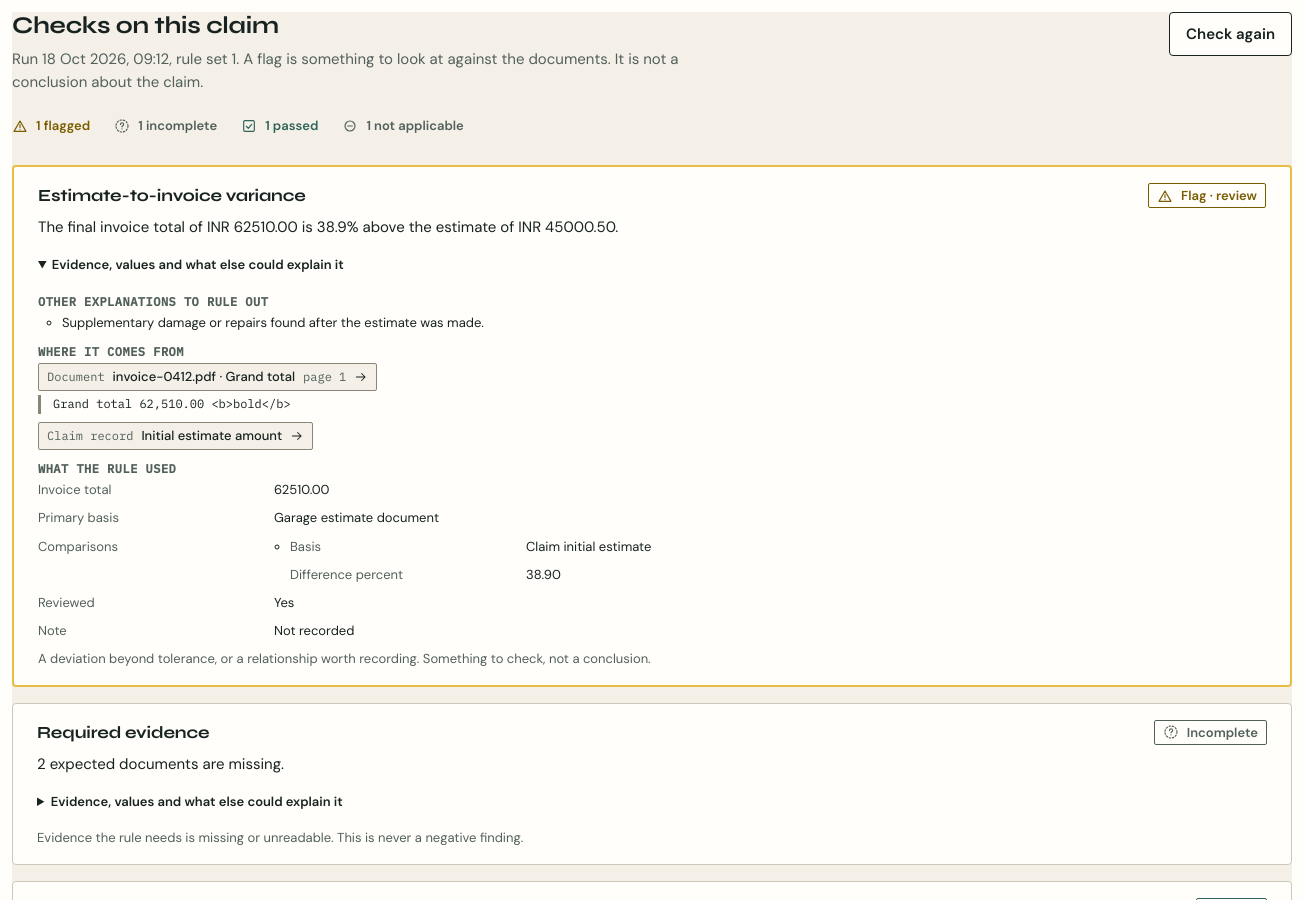
Test: a stored run › says nothing changed when the server returns the stored run, and that a new run was stored otherwise
The image size is (1304, 900).
Click the button "Check again" at (1231,34), box [1169, 12, 1292, 56]
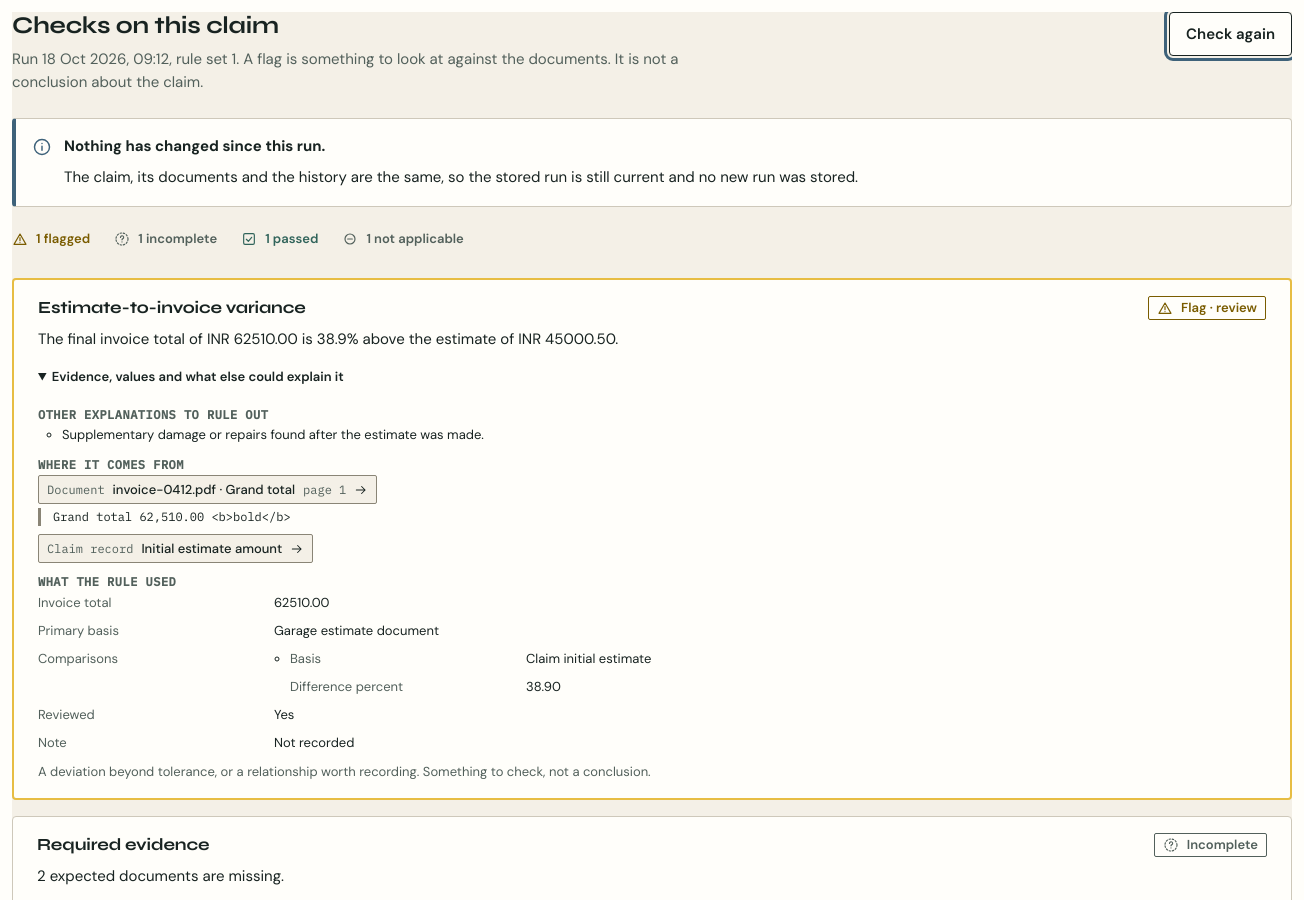
Check: the text "Nothing has changed since this run." is shown, box [64, 136, 325, 156]
Click the button "Check again" at (1231,34), box [1169, 12, 1292, 56]
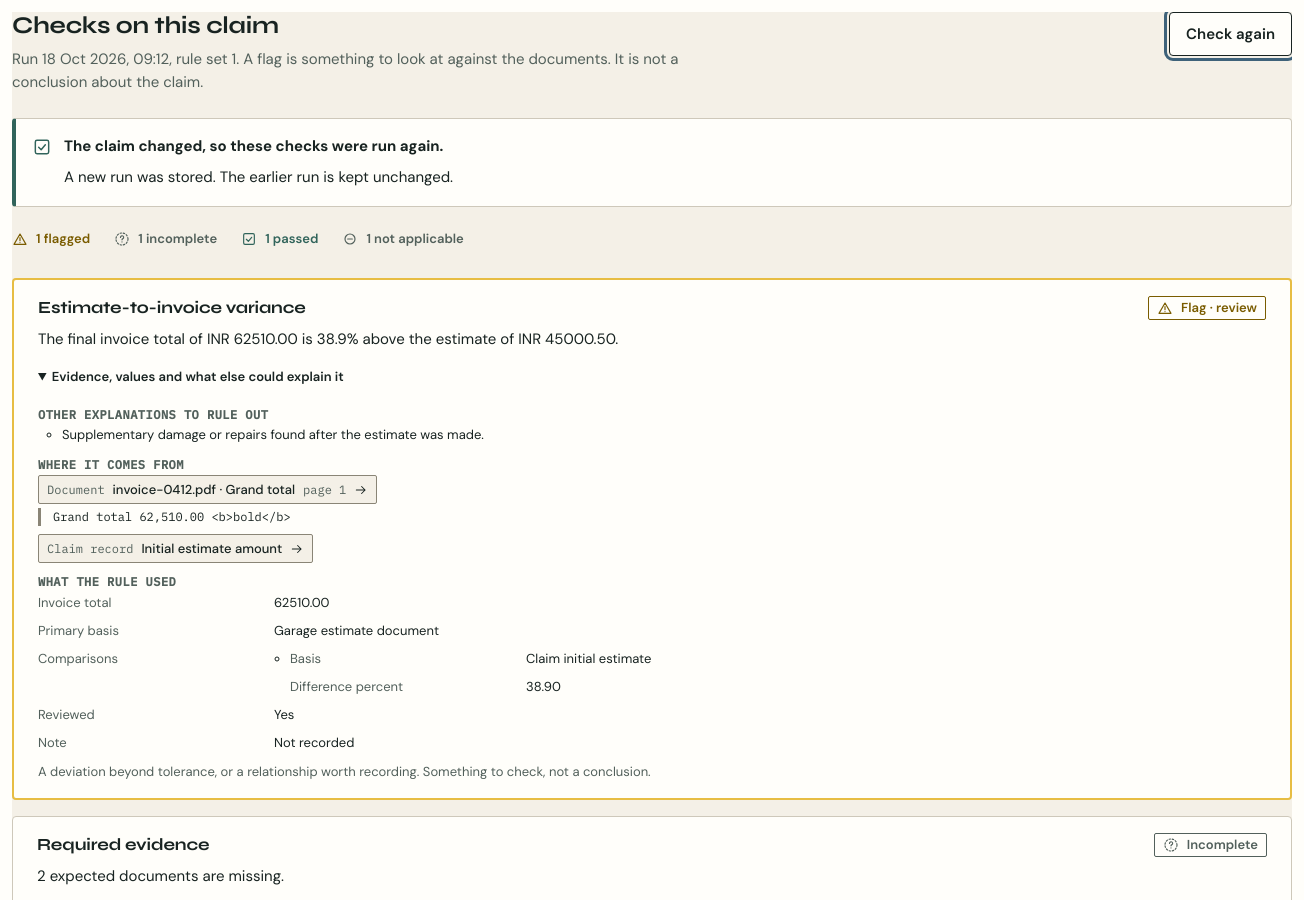
Check: the text "The claim changed, so these checks were run again." is shown, box [64, 136, 443, 156]
Check: the text "Nothing has changed since this run." is gone
